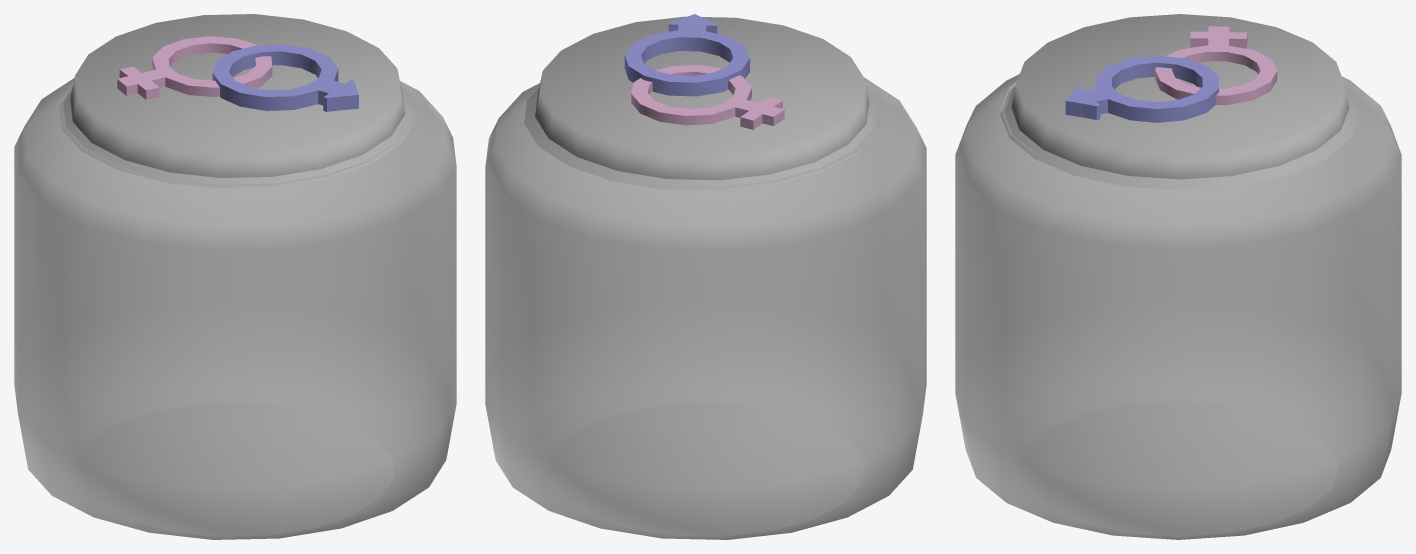
File: pheromones.fbx
The picture shows the model from 3 angles, left to right: view 1: azimuth 30°, elevation 25°; view 2: azimuth 150°, elevation 25°; view 3: azimuth 270°, elevation 25°; orthographic projection.
Parts seen in each view (by area): view 1: polySurface19; view 2: polySurface19; view 3: polySurface19.
Part boxes in pixels (x1,y1,x2,y2): polySurface19: [14, 14, 456, 539]; polySurface19: [485, 14, 926, 539]; polySurface19: [955, 14, 1401, 539].
Size of the model in its own units: 6.53 by 6.46 by 6.53.
